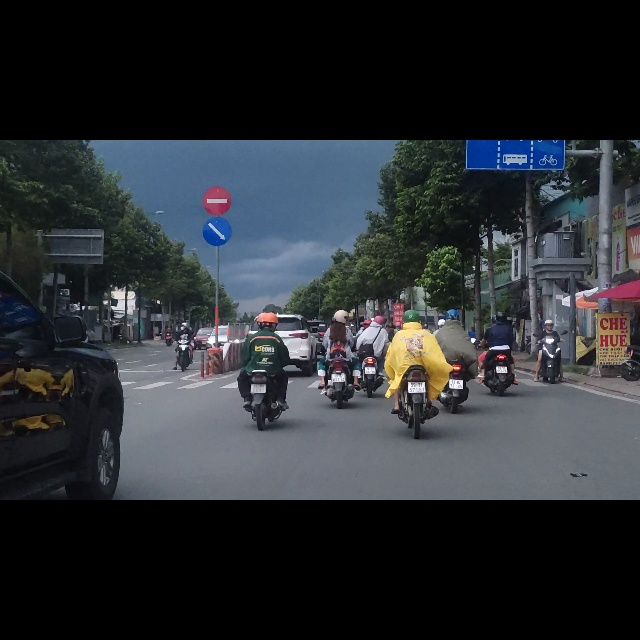bien_hieu_lenh: (202, 135, 232, 188), (203, 82, 231, 135)
